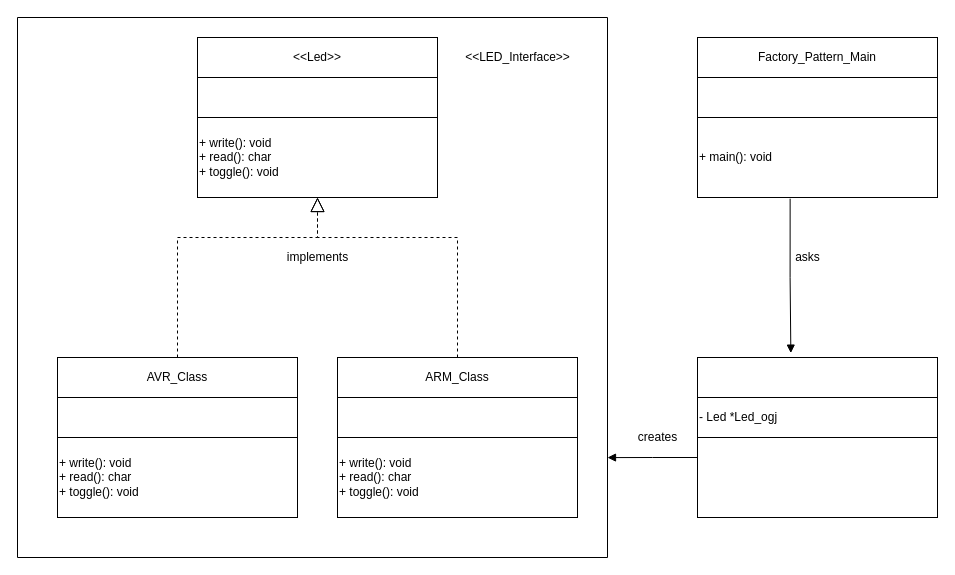
The diagram is 955 pixels wide and 575 high, and some of its shapes have lost their labels. Each missing label, with the box of its shape:
+ Micro_Factory_Class(string type) + get_LED(): Led*: (696, 436, 938, 518)
Micro_Factory_Class: (696, 356, 938, 398)
